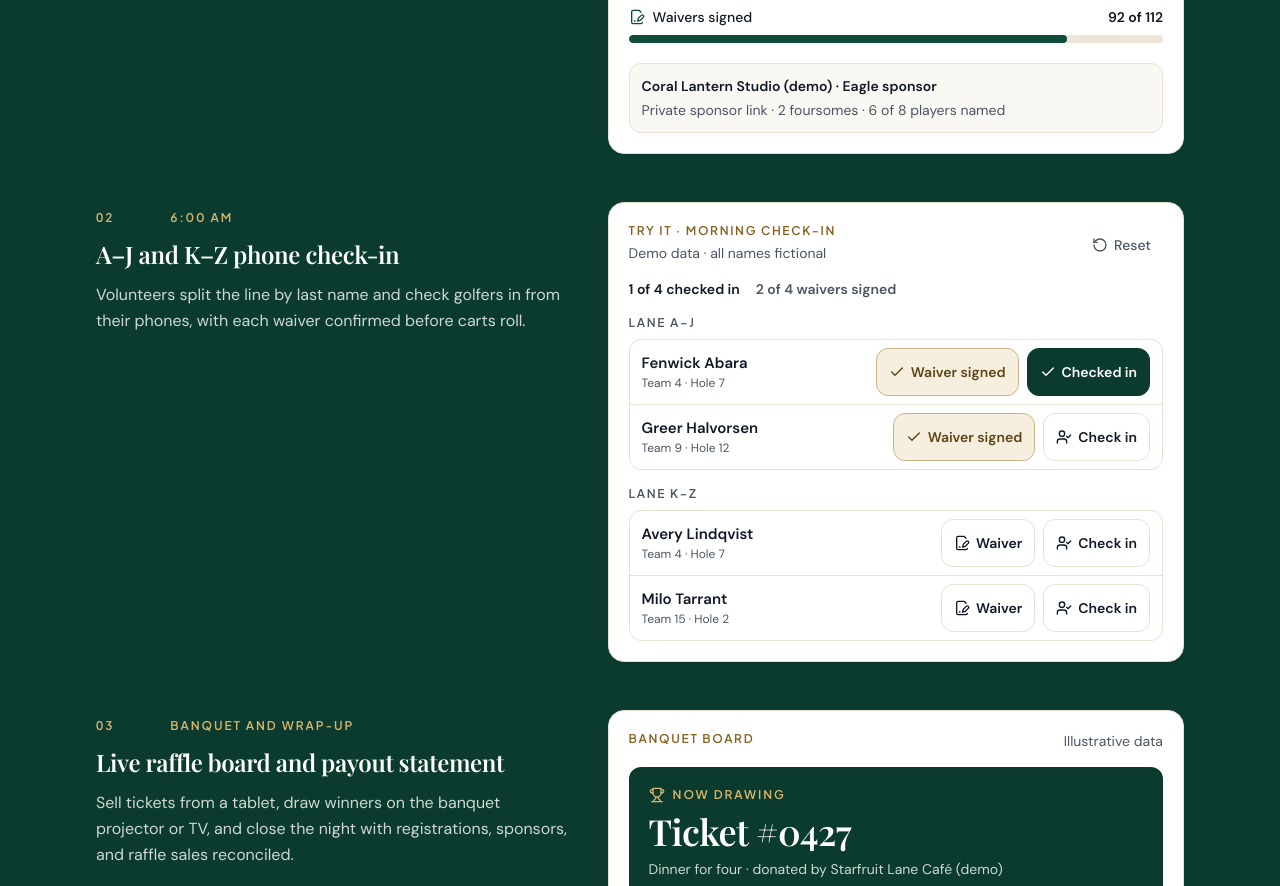
PlatformHomePage › lets visitors tap through the mini check-in and updates the counts
This screenshot has width=1280, height=886.
(page scrolled)
Click the button "Check in" in the row of "Greer Halvorsen" at (1097, 436), box top-left (1043, 412), bottom-right (1150, 460)
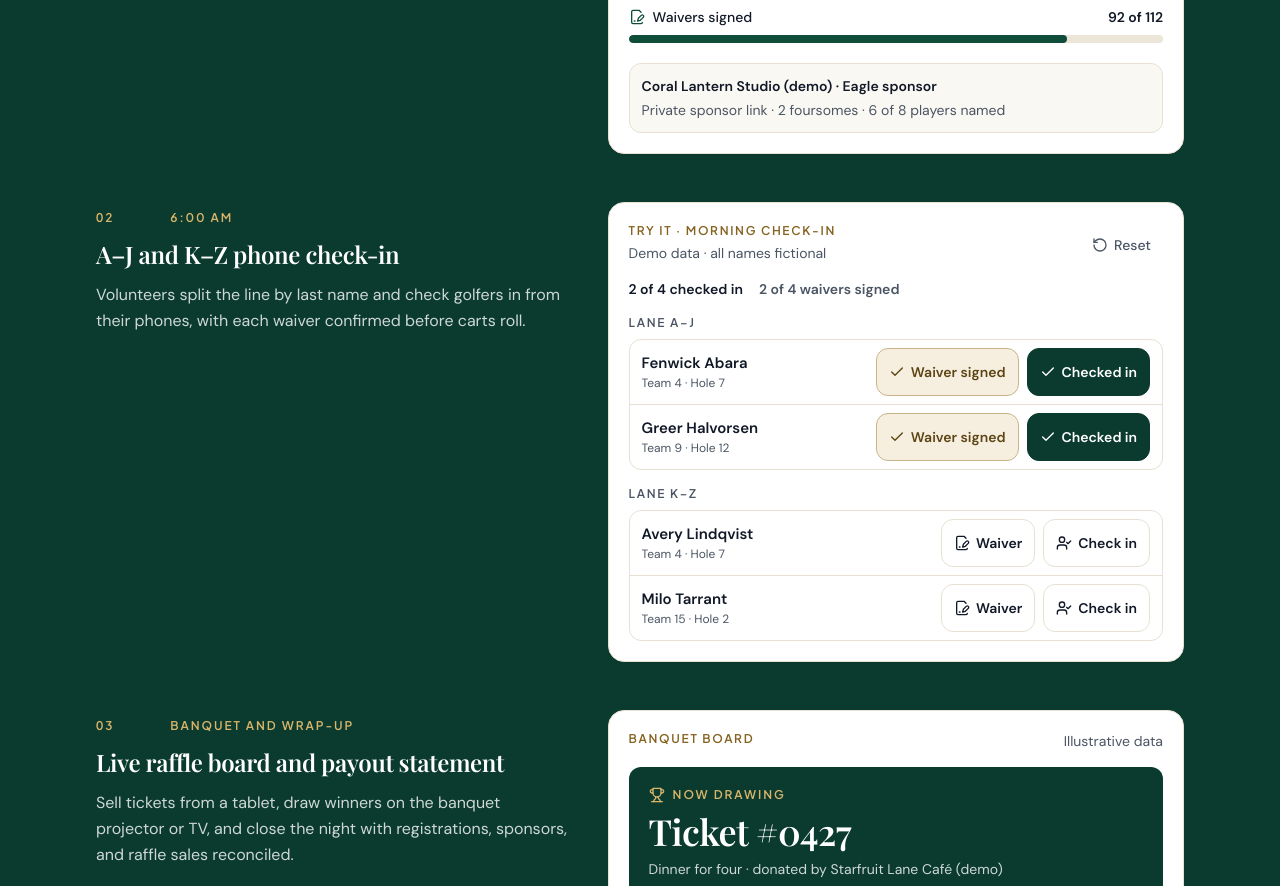
Now the button "Checked in" in the row of "Greer Halvorsen" is shown, box top-left (1026, 412), bottom-right (1150, 460)
Now the text "2 of 4 checked in" is shown, box top-left (629, 278), bottom-right (743, 298)
Click the button "Waiver" in the row of "Avery Lindqvist" at (988, 542), box top-left (941, 518), bottom-right (1035, 566)
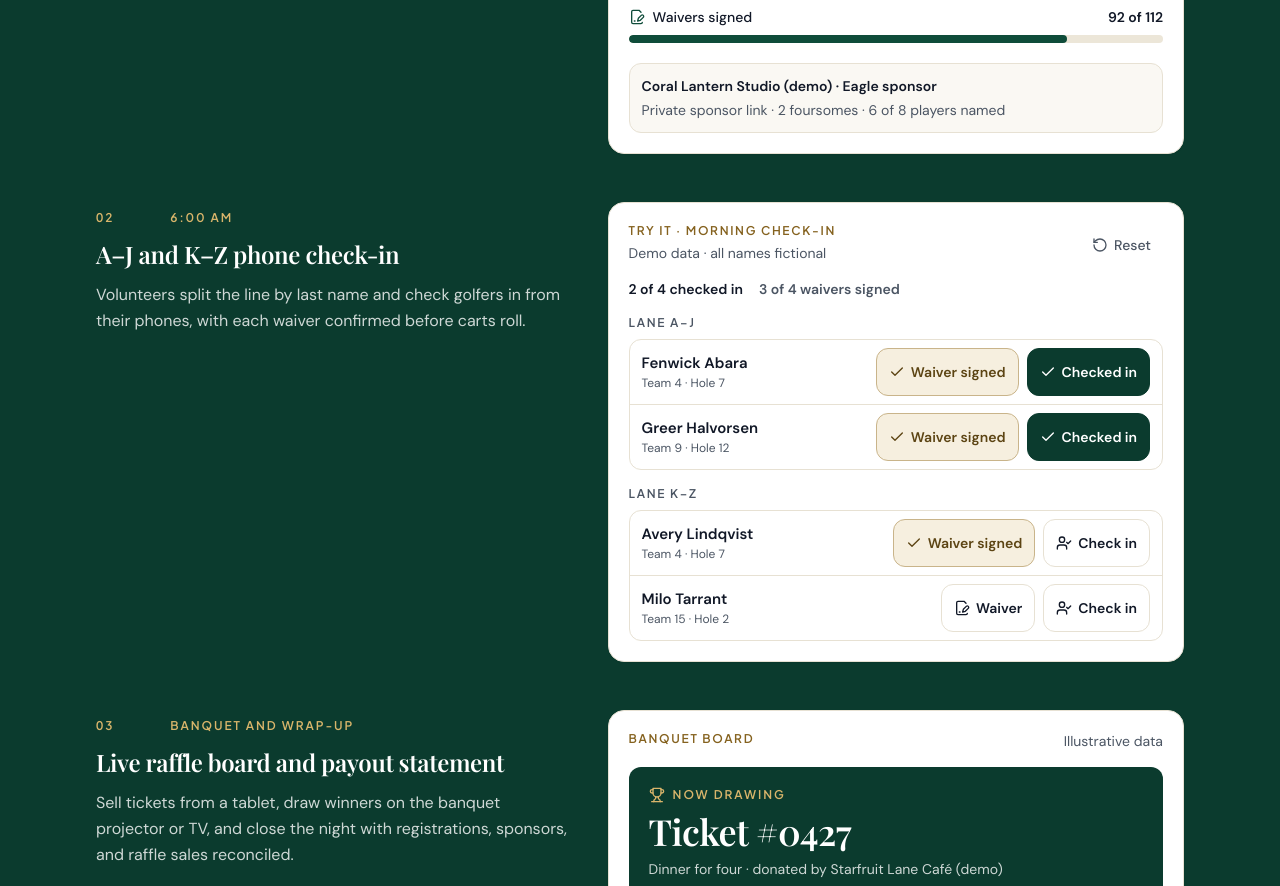
Now the text "3 of 4 waivers signed" is shown, box top-left (759, 278), bottom-right (900, 298)
Click the button "Checked in" in the row of "Greer Halvorsen" at (1088, 436), box top-left (1026, 412), bottom-right (1150, 460)
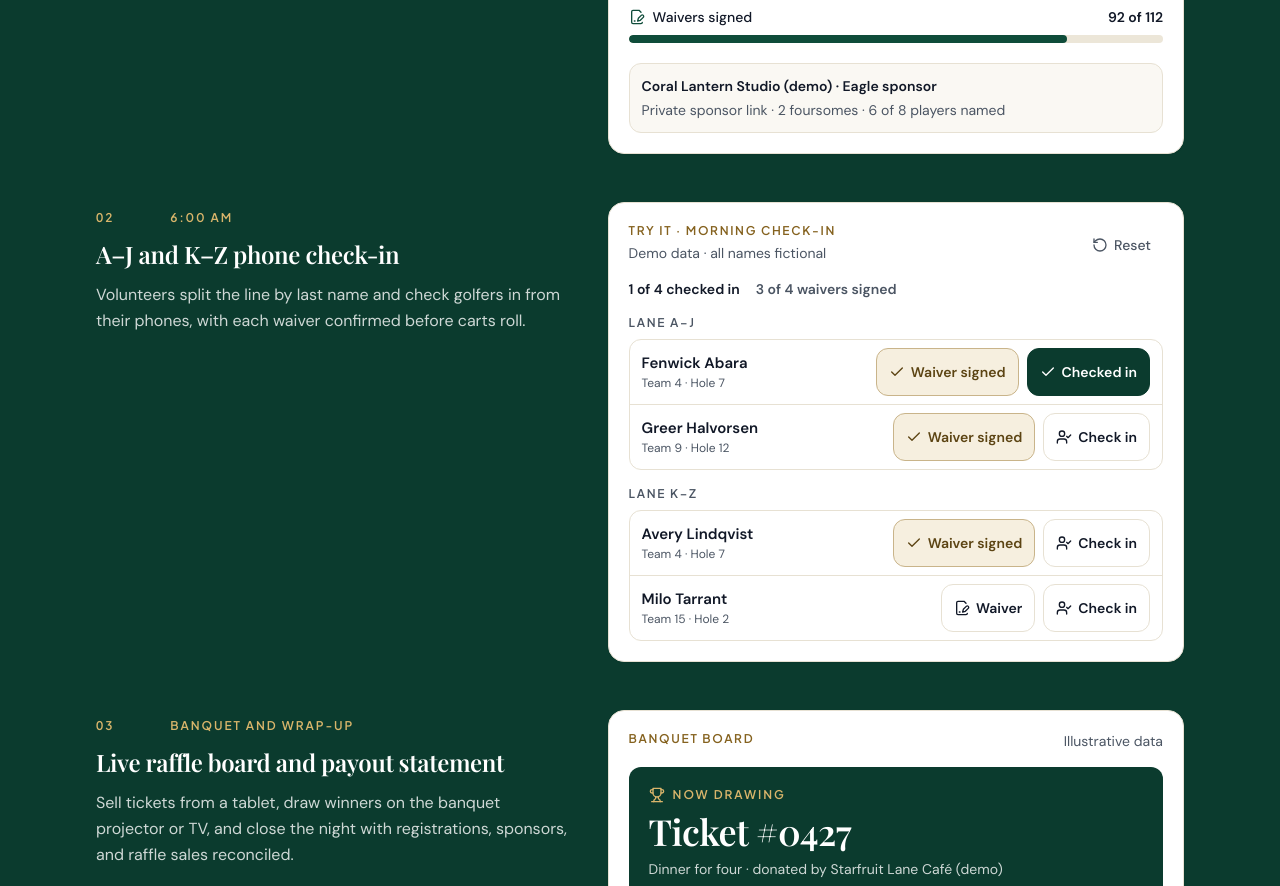
Now the text "1 of 4 checked in" is shown, box top-left (629, 278), bottom-right (740, 298)
Click the button "Reset" at (1122, 244), box top-left (1080, 222), bottom-right (1163, 266)
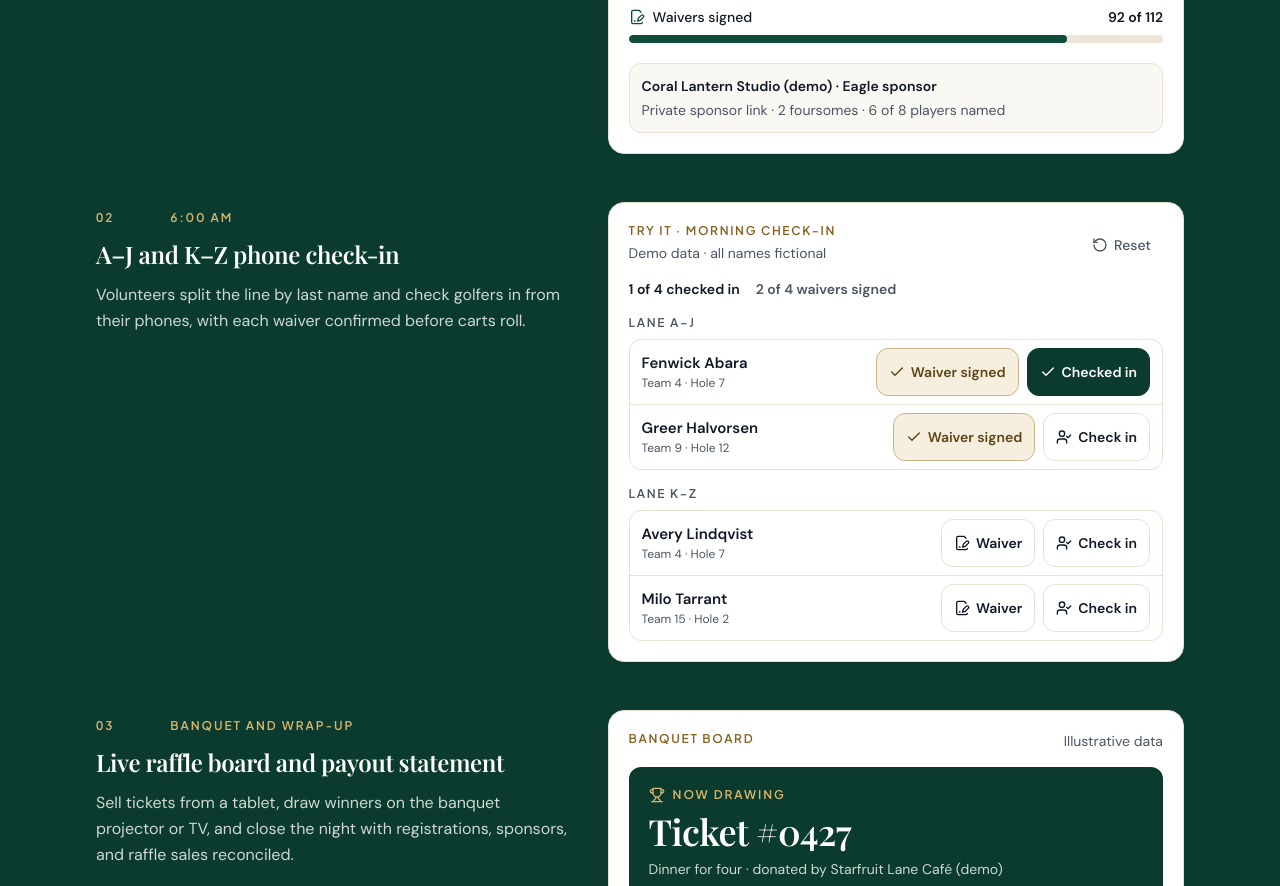
Now the text "2 of 4 waivers signed" is shown, box top-left (756, 278), bottom-right (896, 298)
